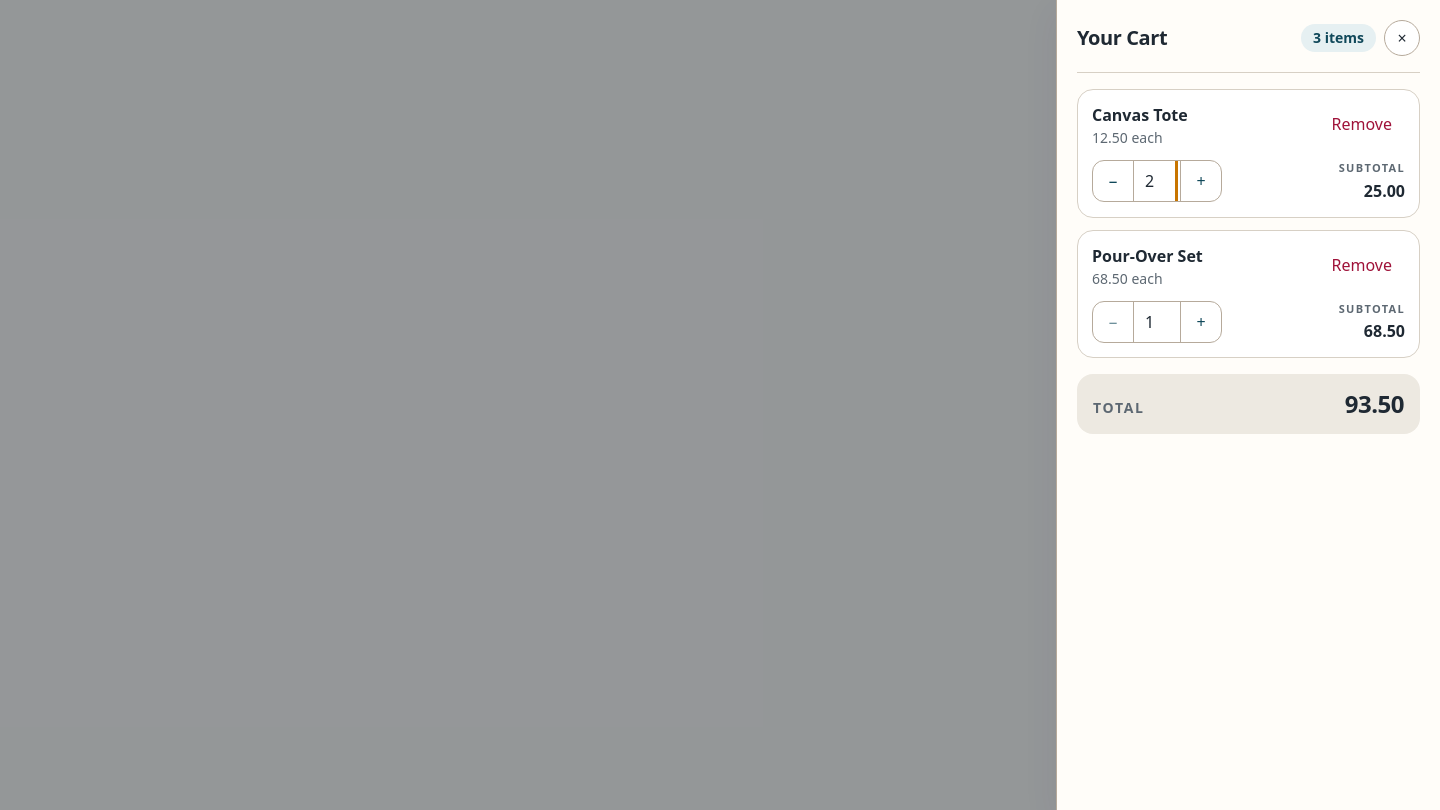
CartDrawer › keeps focus inside the dialog when the focused control becomes disabled while pending
The width and height of the screenshot is (1440, 810).
Click the button named "Increase quantity for Canvas Tote" at (1201, 181), box [1181, 161, 1221, 201]
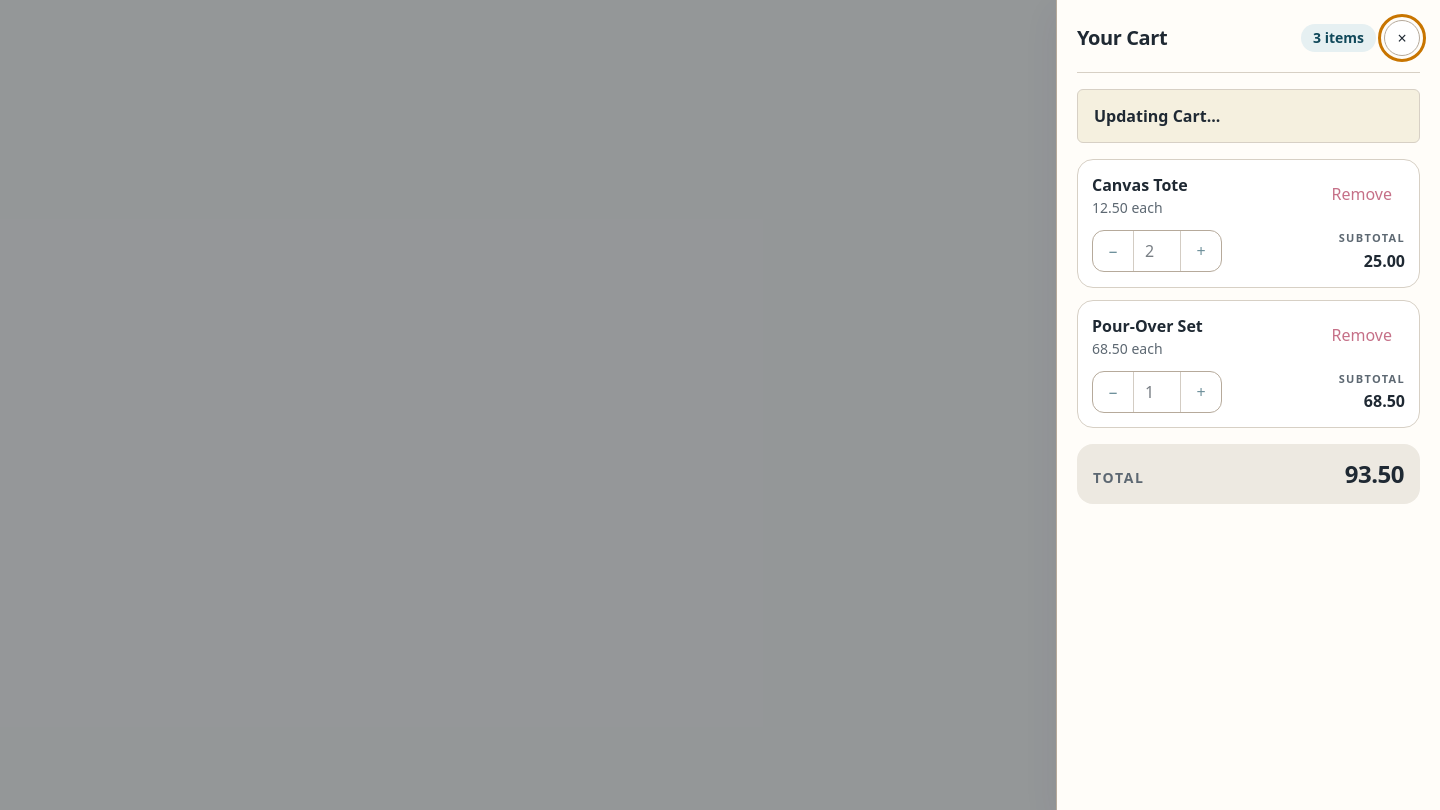
Expected: the button named "Increase quantity for Canvas Tote" is disabled, [1181, 231, 1221, 271]
